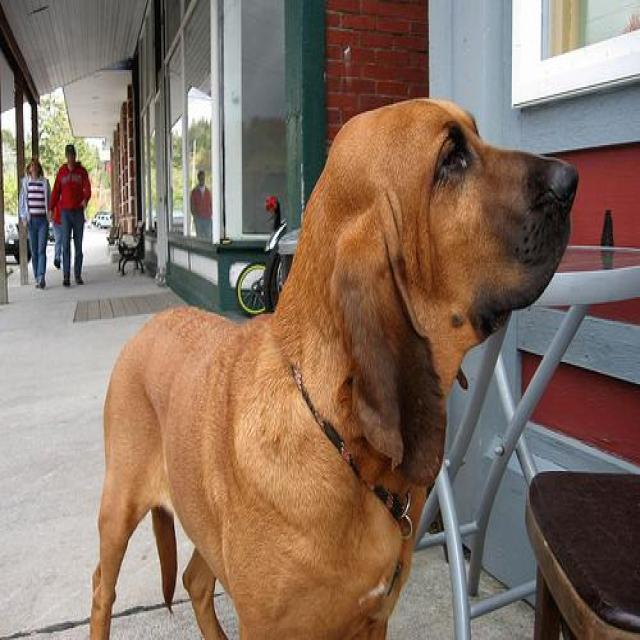bloodhound: (86, 92, 576, 637)
